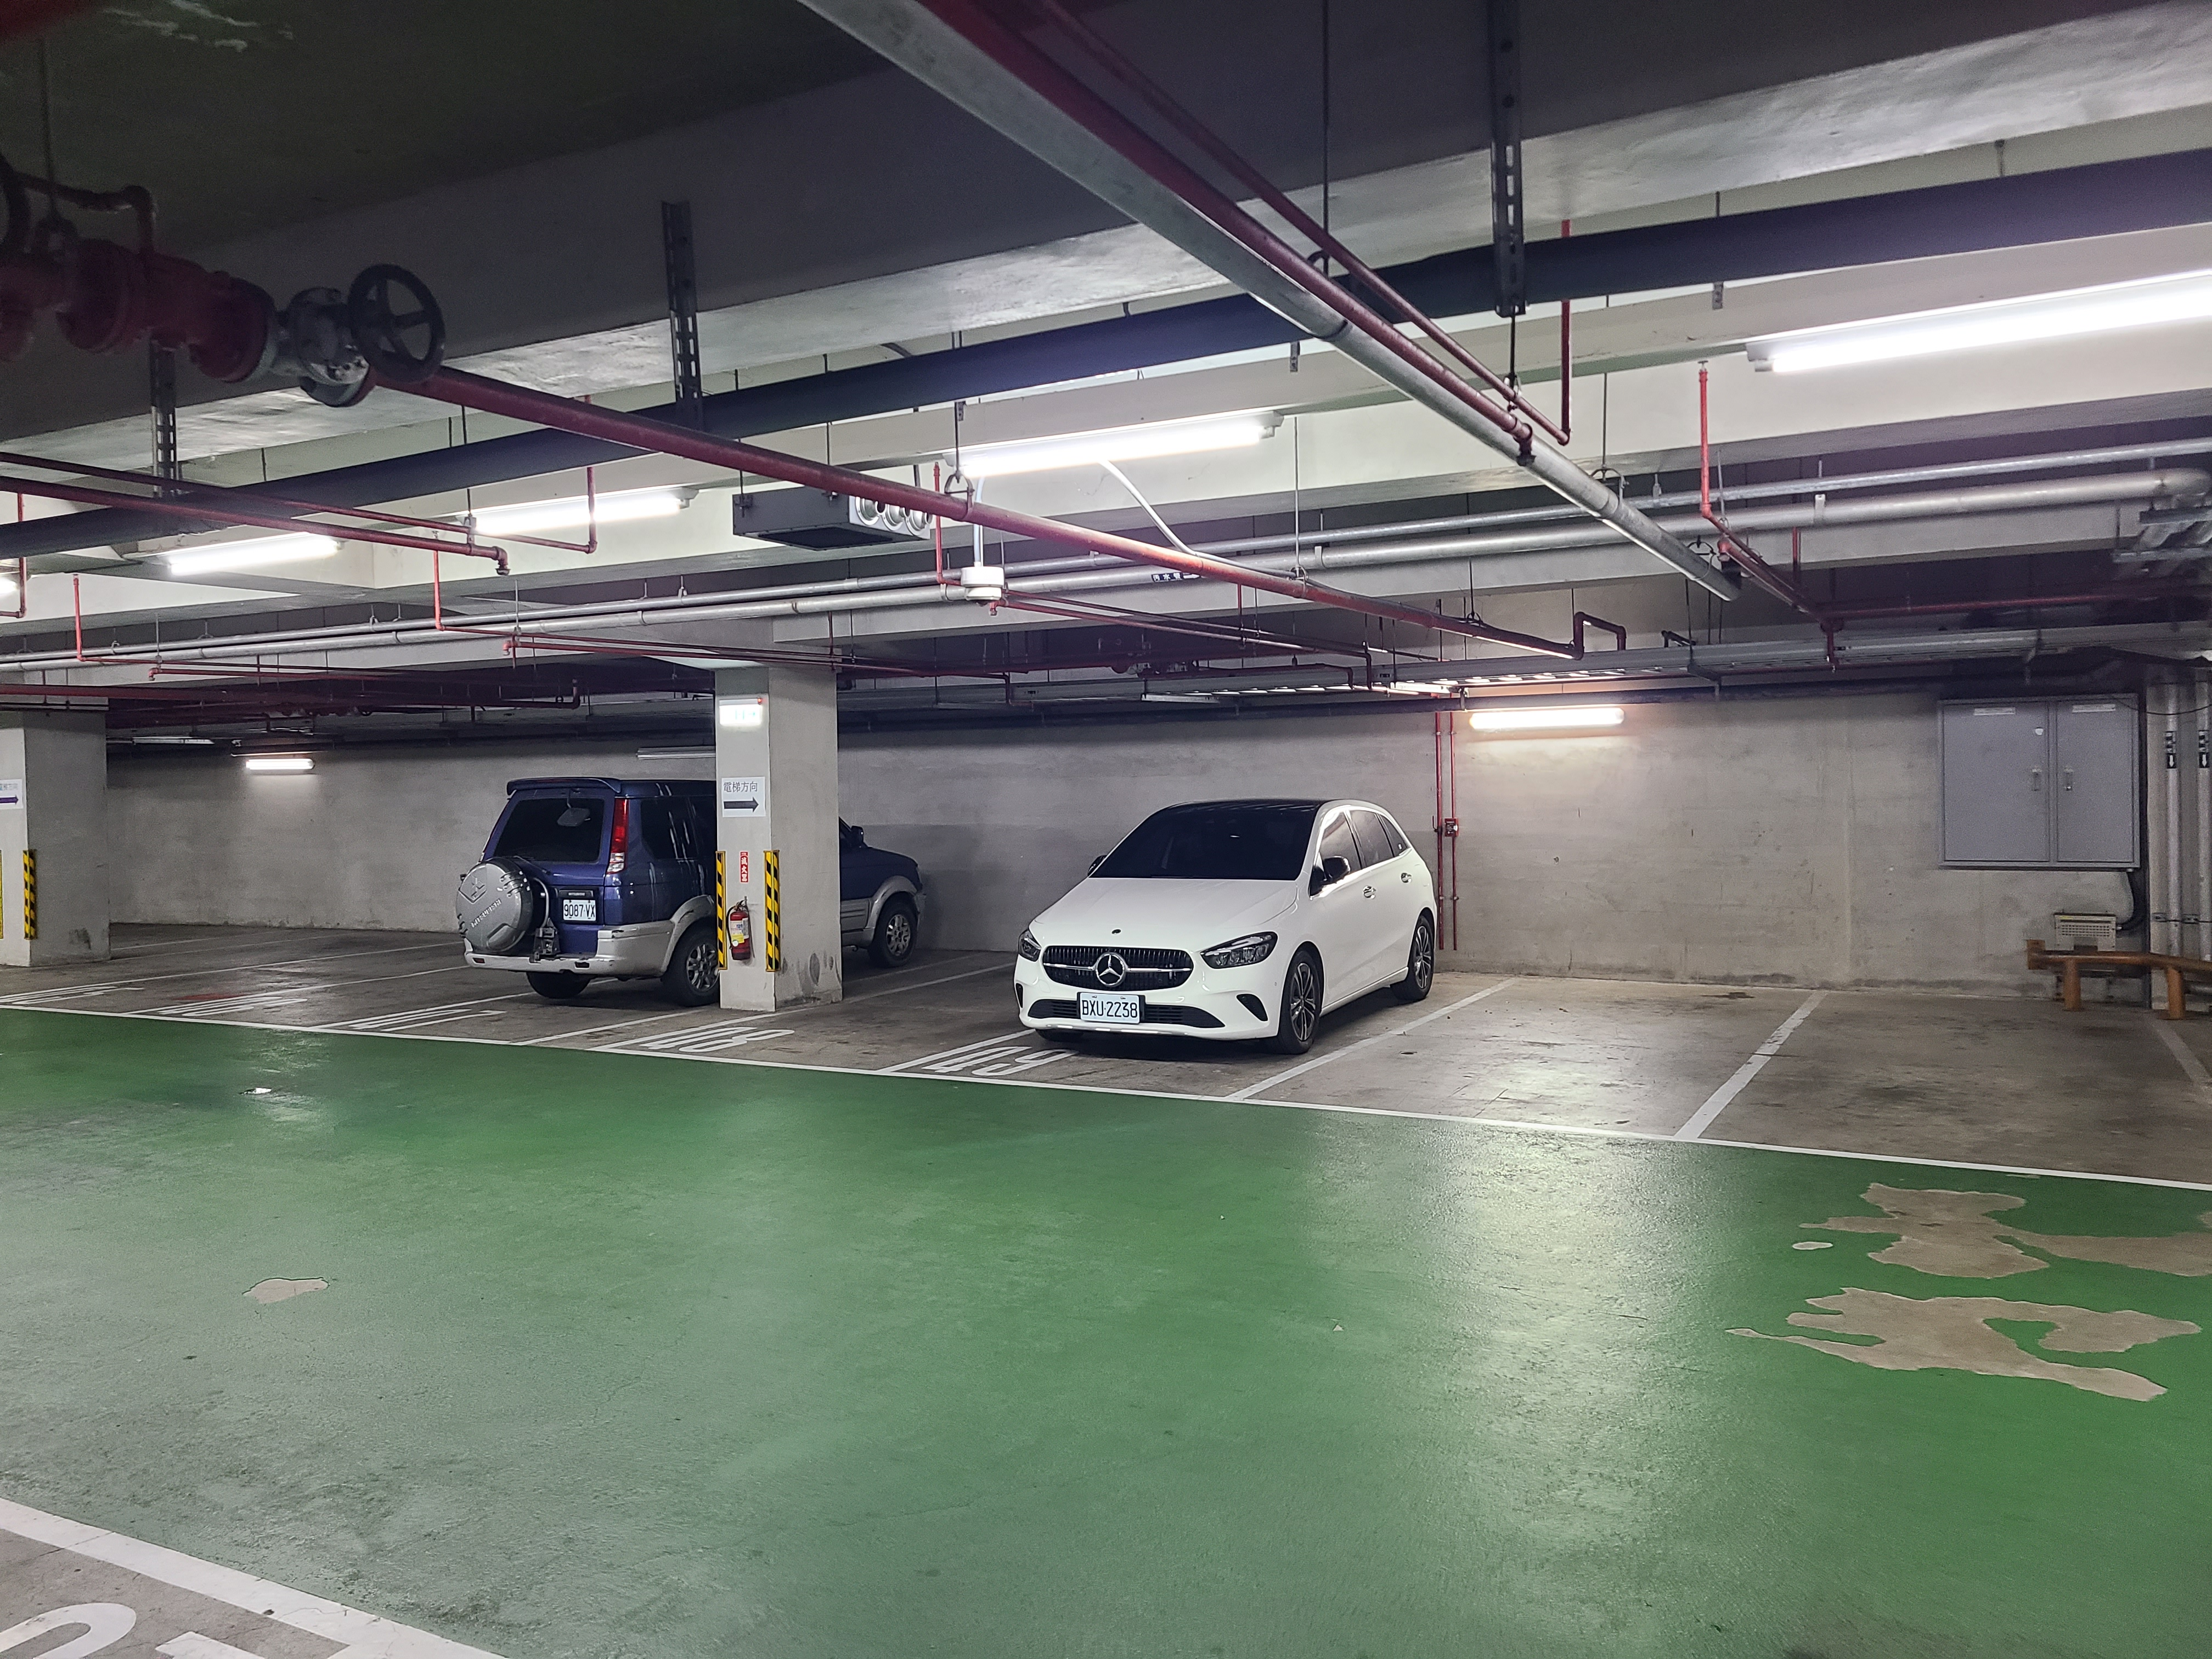car: (1005, 798, 1444, 1058), (448, 769, 723, 1012), (836, 791, 932, 971)
